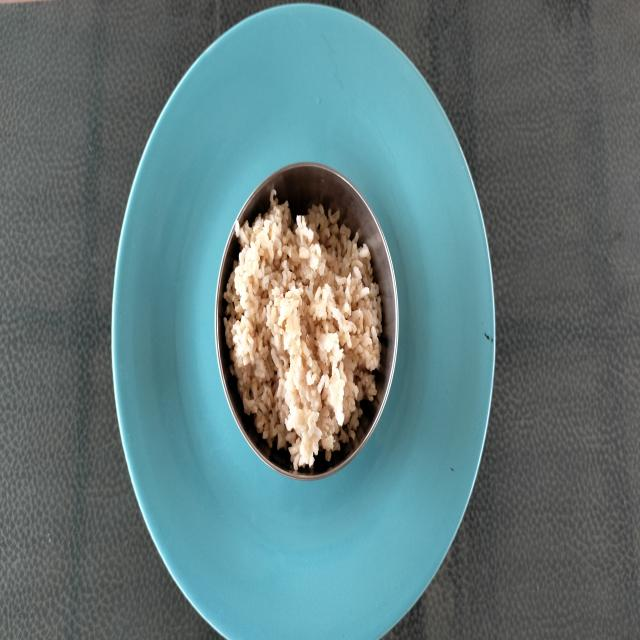brown-rice: (224, 191, 381, 470)
